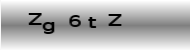6: (68, 15, 80, 28)
Z: (27, 11, 42, 25), (107, 14, 122, 26)
g: (42, 21, 54, 35)
t: (87, 16, 97, 29)
